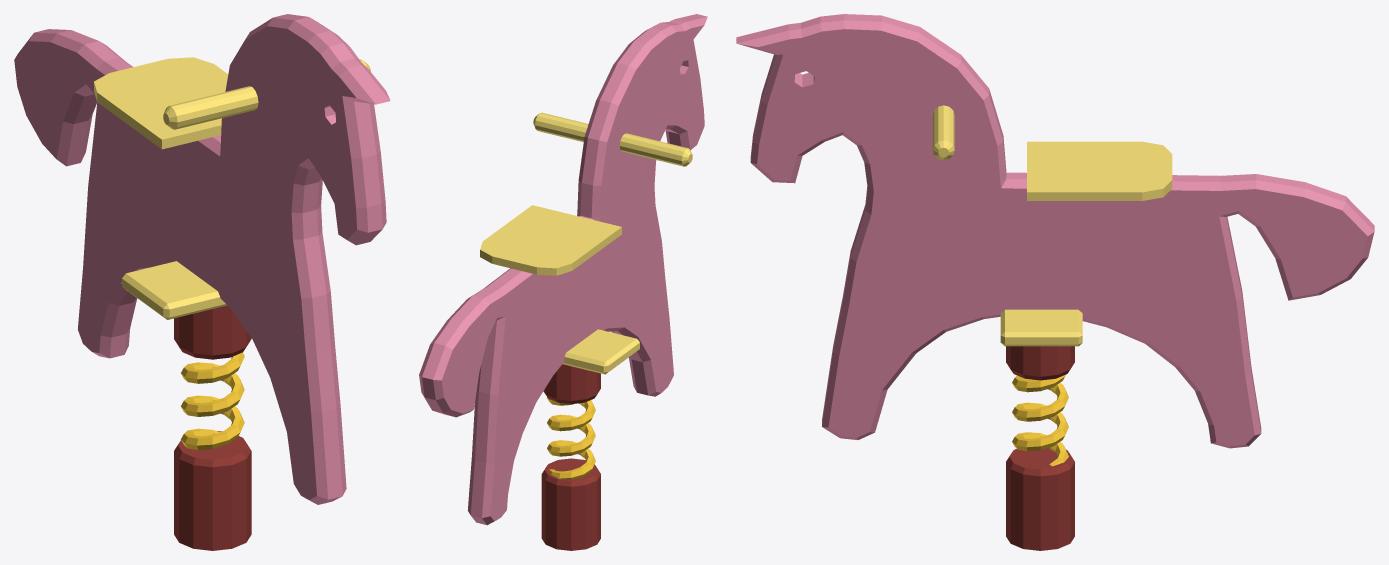
Rendered from Isl_9_Children_Horse_3.fbx.
The picture shows the model from 3 angles, left to right: view 1: azimuth 30°, elevation 25°; view 2: azimuth 150°, elevation 25°; view 3: azimuth 270°, elevation 25°; orthographic projection. The views are drawn at different scales.
Parts seen in each view (by area): view 1: Isl_9_Children_Horse_3; view 2: Isl_9_Children_Horse_3; view 3: Isl_9_Children_Horse_3.
Boxes of the visible parts, left/top/right/bottom form: Isl_9_Children_Horse_3: left=14, top=14, right=390, bottom=550; Isl_9_Children_Horse_3: left=419, top=14, right=707, bottom=550; Isl_9_Children_Horse_3: left=736, top=14, right=1374, bottom=550.
Bounding box in the file's own units: 38.88 × 120 × 107.
1 material, 1 textured.
